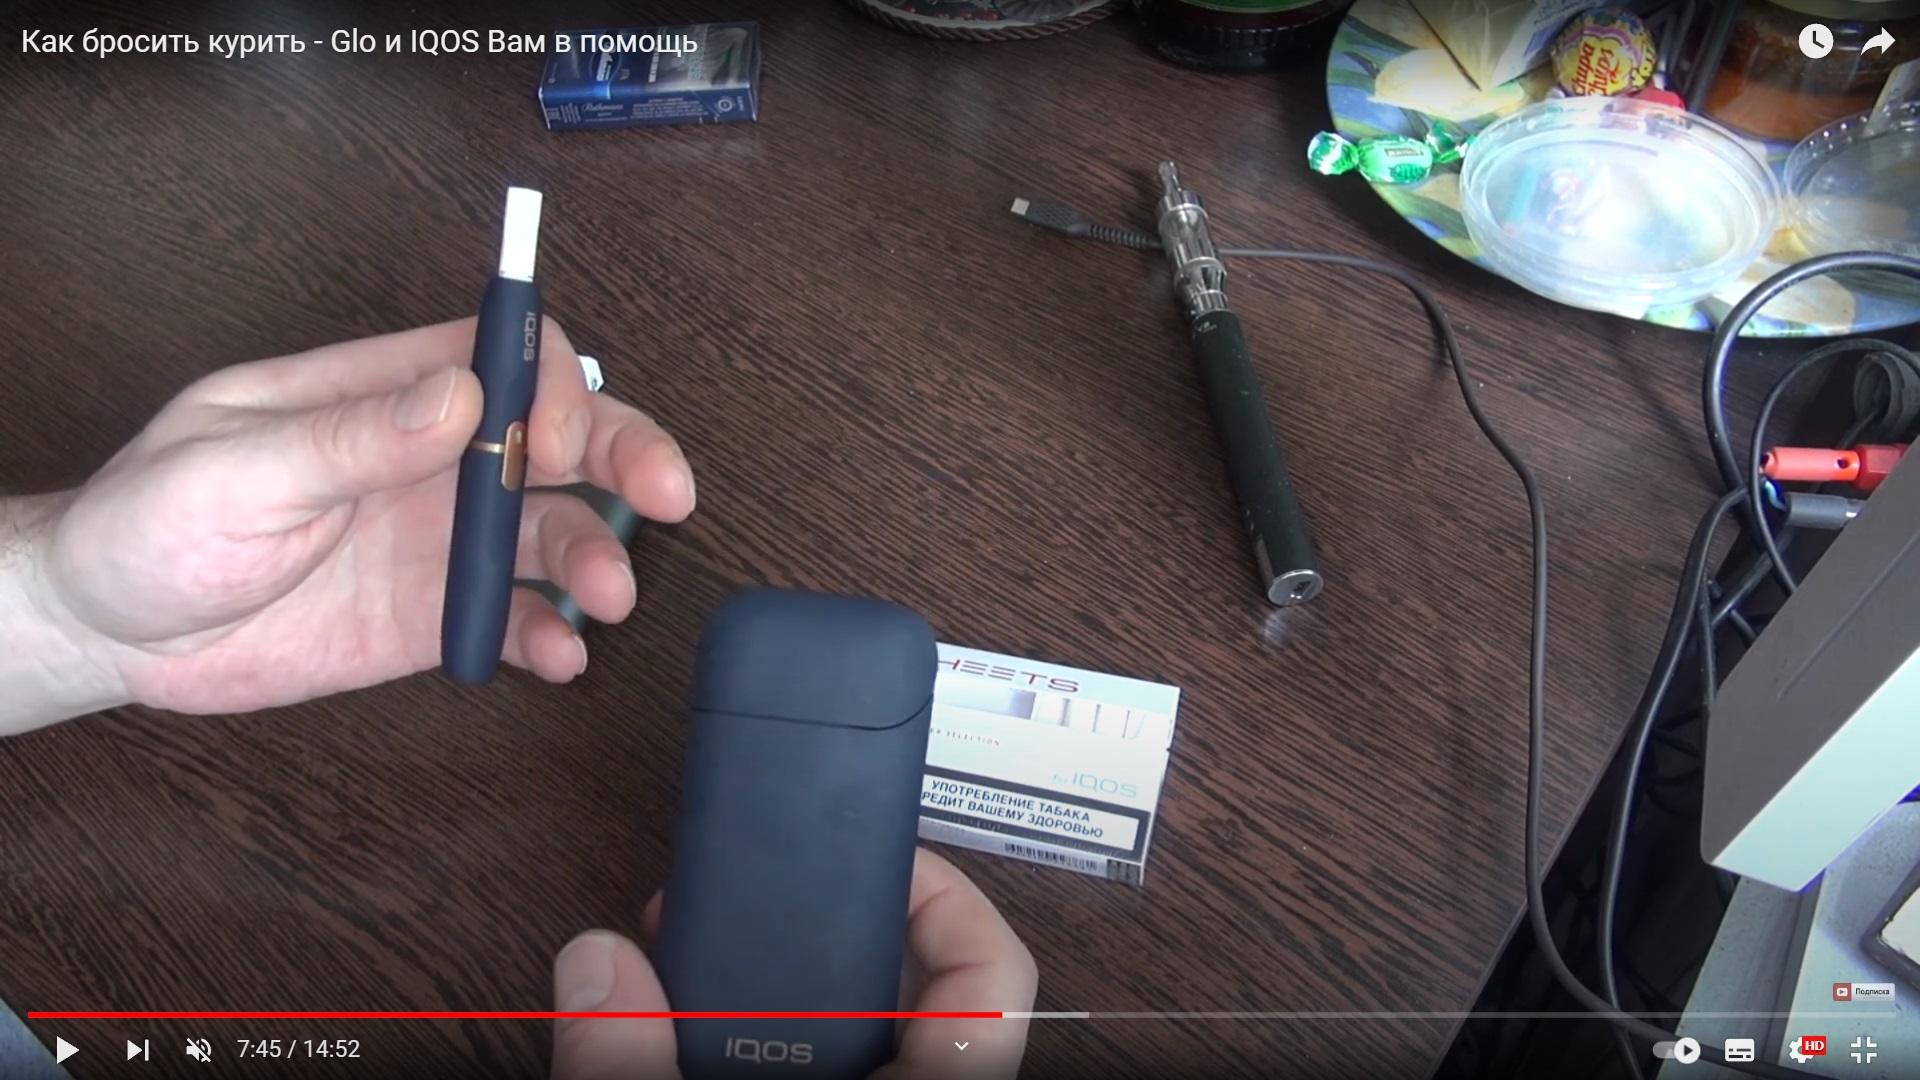Vape: (1158, 161, 1323, 607)
iqos: (440, 187, 542, 683)
